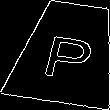P_N: (38, 25, 97, 81)
